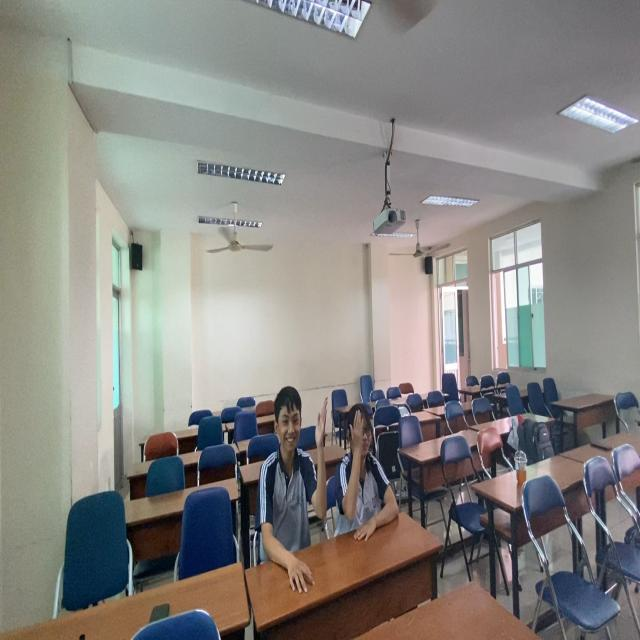raise_hand: (257, 384, 334, 564), (338, 401, 405, 546)
